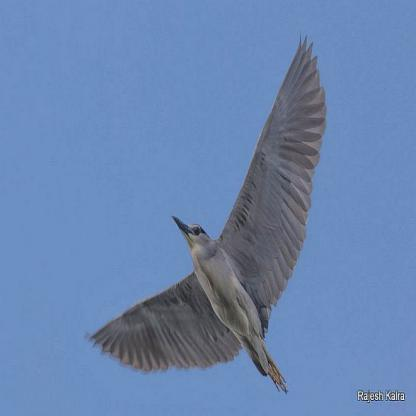Burung: (86, 32, 328, 392)
